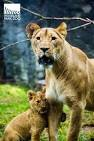lion: (24, 17, 94, 140)
